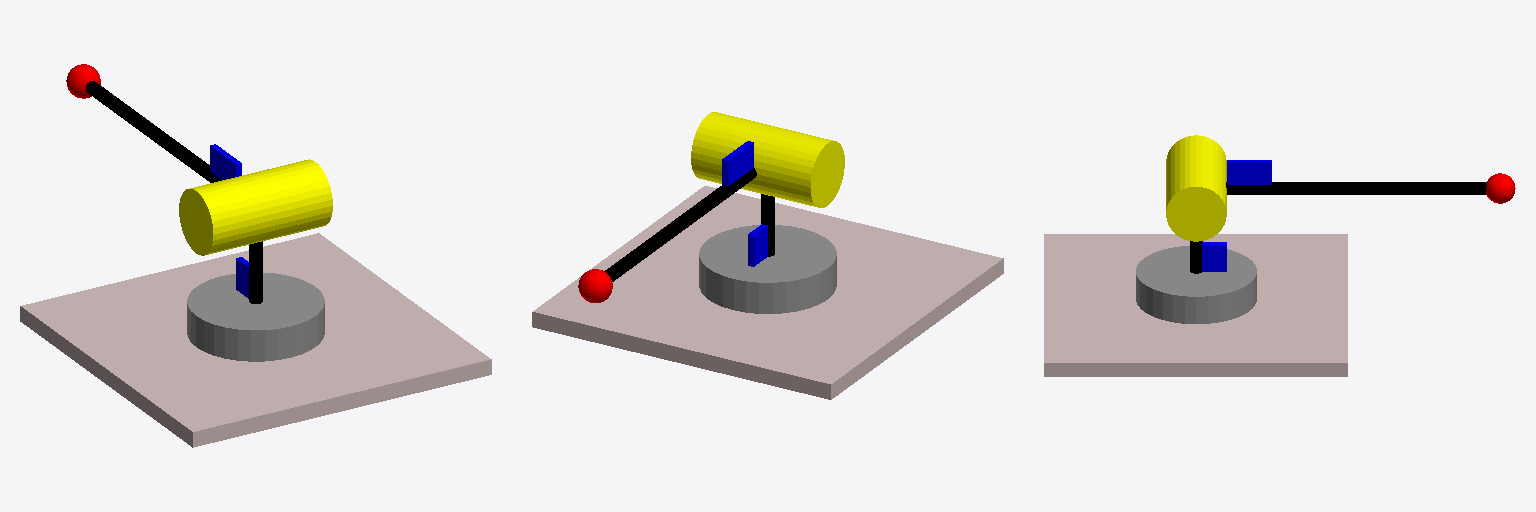
URDF robot description (pantilt):
<?xml version="1.0"?>

<robot name="pantilt">
  
  <!-- *************************************************** -->
  <!-- ******************** Kinematics ******************* -->
  <!-- *************************************************** -->
  <!-- Note the 'origin' tag in the joints defines the
       shift and reorientation before the continuous joint
       rotates around the 'axis'. -->

  <link name="world"/>

  <joint name="pan" type="continuous">
    <parent link="world"/>
    <child  link="link1"/>
    <origin xyz="0 0 0" rpy="0 0 0"/>
    <axis   xyz="0 0 1"/>
  </joint>

  <link name="link1"/>

  <joint name="tilt" type="continuous">
    <parent link="link1"/>
    <child  link="link2"/>
    <origin xyz="0 0 0" rpy="0 0 0"/>
    <axis   xyz="1 0 0"/>
  </joint>

  <link name="link2"/>

  <joint name="shifttotip" type="fixed">
    <parent link="link2"/>
    <child  link="tip"/>
    <origin xyz="0 1.0 0" rpy="0 0 0"/>
  </joint>

  <link name="tip"/>


  <!-- *************************************************** -->
  <!-- ********************* Graphics ******************** -->
  <!-- *************************************************** -->
  <!-- The following is purely to make this look roboticy. -->
  <!-- The 'origin' tag in the link/visual defines the
       center of the object (box, cylinder, sphere, mesh)
       but does not affect the joint chain kinematics. -->

  <!-- *************** Materials / Colors **************** -->

  <material name="white">    <color rgba="1.00 1.00 1.00 1"/>  </material>
  <material name="gray">     <color rgba="0.60 0.60 0.60 1"/>  </material>
  <material name="table">    <color rgba="0.85 0.77 0.77 1"/>  </material>
  <material name="black">    <color rgba="0.00 0.00 0.00 1"/>  </material>

  <material name="red">      <color rgba="1.00 0.00 0.00 1"/>  </material>
  <material name="green">    <color rgba="0.00 1.00 0.00 1"/>  </material>
  <material name="blue">     <color rgba="0.00 0.00 1.00 1"/>  </material>

  <material name="cyan">     <color rgba="0.00 1.00 1.00 1"/>  </material>
  <material name="magenta">  <color rgba="1.00 0.00 1.00 1"/>  </material>
  <material name="yellow">   <color rgba="1.00 1.00 0.00 1"/>  </material>

  <material name="orange">   <color rgba="1.00 0.65 0.00 1"/>  </material>


  <!-- *** Table - attached to world *** -->

  <joint name="attach-table" type="fixed">
    <parent link="world"/>
    <child  link="table"/>
  </joint>

  <link name="table">
    <visual>
      <origin xyz="0 0 -0.425" rpy="0 0 0"/>
      <geometry>
	<box size="1.0 1.0 0.05"/>
      </geometry>
      <material name="table"/>
    </visual>
  </link>

  <!-- *** Pan Motor - attached to world *** -->

  <joint name="attach-panmotor" type="fixed">
    <parent link="world"/>
    <child  link="panmotor"/>
  </joint>

  <link name="panmotor">
    <visual>
      <origin xyz="0 0 -0.35" rpy="0 0 0"/>
      <geometry>
	<cylinder length="0.1" radius="0.2"/>
      </geometry>
      <material name="gray"/>
    </visual>
  </link>

  <!-- *** Link 1 Bar - attached to link1 (pan joint output) *** -->

  <joint name="attach-link1bar" type="fixed">
    <parent link="link1"/>
    <child  link="link1bar"/>
  </joint>

  <link name="link1bar">
    <visual>
      <origin xyz="0 0 -0.2" rpy="0 0 0"/>
      <geometry>
	<cylinder length="0.2" radius="0.02"/>
      </geometry>
      <material name="black"/>
    </visual>
  </link>

  <!-- *** Link 1 Sail - attached to link1 (pan joint output) *** -->

  <joint name="attach-link1sail" type="fixed">
    <parent link="link1"/>
    <child  link="link1sail"/>
  </joint>

  <link name="link1sail">
    <visual>
      <origin xyz="0 0.05 -0.25" rpy="0 0 0"/>
      <geometry>
      	<box size="0.02 0.1 0.1"/>
      </geometry>
      <material name="blue"/>
    </visual>
  </link>

  <!-- *** Tilt Motor - attached to link1 (pan joint output) *** -->

  <joint name="attach-tiltmotor" type="fixed">
    <parent link="link1"/>
    <child  link="tiltmotor"/>
  </joint>

  <link name="tiltmotor">
    <visual>
      <origin xyz="0 0 0" rpy="0 1.5708 0"/>
      <geometry>
	<cylinder length="0.4" radius="0.1"/>
      </geometry>
      <material name="yellow"/>
    </visual>
  </link>

  <!-- *** Link 2 Bar - attached to link2 (tilt joint output) *** -->

  <joint name="attach-link2bar" type="fixed">
    <parent link="link2"/>
    <child  link="link2bar"/>
  </joint>

  <link name="link2bar">
    <visual>
      <origin xyz="0 0.5 0" rpy="-1.5708 0 0"/>
      <geometry>
	<cylinder length="1.0" radius="0.02"/>
      </geometry>
      <material name="black"/>
    </visual>
  </link>

  <!-- *** Link 2 Sail - attached to link2 (tilt joint output) *** -->

  <joint name="attach-link2sail" type="fixed">
    <parent link="link2"/>
    <child  link="link2sail"/>
  </joint>

  <link name="link2sail">
    <visual>
      <origin xyz="0 0.175 0.05" rpy="0 0 0"/>
      <geometry>
      	<box size="0.02 0.15 0.1"/>
      </geometry>
      <material name="blue"/>
    </visual>
  </link>

  <!-- *** Tip Ball - attached to tip *** -->

  <joint name="attach-tipball" type="fixed">
    <parent link="tip"/>
    <child  link="tipball"/>
  </joint>

  <link name="tipball">
    <visual>
      <origin xyz="0 0 0" rpy="0 0 0"/>
      <geometry>
      	<sphere radius="0.05"/>
      </geometry>
      <material name="red"/>
    </visual>
  </link>

</robot>

--- What the picture shows (computed from the rendered views, not written in the file) ---
The picture shows the robot from 3 angles, left to right: view 1: azimuth 30°, elevation 25°; view 2: azimuth 150°, elevation 25°; view 3: azimuth 270°, elevation 25°; orthographic projection.
Robot: pantilt — 12 links, 11 joints (2 continuous, 9 fixed); root link world; default pose: every joint at zero.
Visible links, largest first — view 1: table, tiltmotor, panmotor, link2bar, link1bar, link2sail, tipball; view 2: table, panmotor, tiltmotor, link2bar, link2sail, tipball, link1sail, link1bar; view 3: table, panmotor, tiltmotor, link2bar, link2sail, link1sail, tipball.
Link boxes in pixels (bbox=[...]): table: bbox=[20, 233, 491, 447]; tiltmotor: bbox=[179, 159, 332, 255]; panmotor: bbox=[187, 273, 324, 361]; link2bar: bbox=[86, 81, 221, 182]; link1bar: bbox=[249, 241, 262, 303]; link2sail: bbox=[210, 144, 241, 179]; tipball: bbox=[66, 64, 100, 98]; table: bbox=[532, 186, 1003, 399]; panmotor: bbox=[699, 225, 836, 313]; tiltmotor: bbox=[691, 112, 844, 207]; link2bar: bbox=[604, 168, 756, 281]; link2sail: bbox=[722, 141, 753, 186]; tipball: bbox=[578, 269, 612, 302]; link1sail: bbox=[748, 224, 767, 266]; link1bar: bbox=[761, 194, 774, 256]; table: bbox=[1044, 234, 1347, 376]; panmotor: bbox=[1136, 246, 1256, 323]; tiltmotor: bbox=[1166, 135, 1226, 241]; link2bar: bbox=[1226, 182, 1486, 194]; link2sail: bbox=[1227, 160, 1271, 184]; link1sail: bbox=[1202, 242, 1226, 271]; tipball: bbox=[1486, 173, 1515, 203].
Size in the robot's own frame: 1 by 1.55 by 0.55 metres.
Geometry: primitives only (box / cylinder / sphere), no mesh files.
